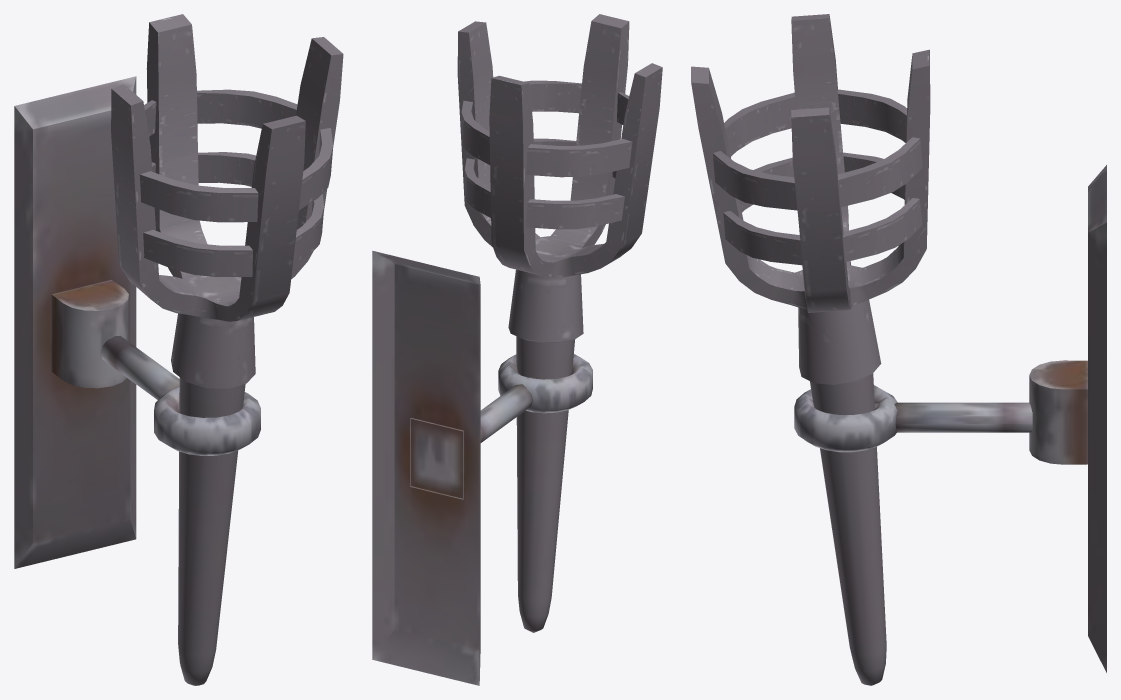
Rendered from w_torch.glb.
3 views of the same model, side by side, from view 1: azimuth 30°, elevation 25°; view 2: azimuth 150°, elevation 25°; view 3: azimuth 270°, elevation 25° (orthographic). The views are drawn at different scales.
Parts seen in each view (by area): view 1: Torch_Metal; view 2: Torch_Metal; view 3: Torch_Metal.
Part boxes in pixels (x1=…): Torch_Metal: x1=14, y1=14, x2=343, y2=685; Torch_Metal: x1=372, y1=14, x2=662, y2=685; Torch_Metal: x1=691, y1=14, x2=1106, y2=685.
Bounding box in the file's own units: 0.2231 × 0.6482 × 0.3884.
1 material, 1 textured.
